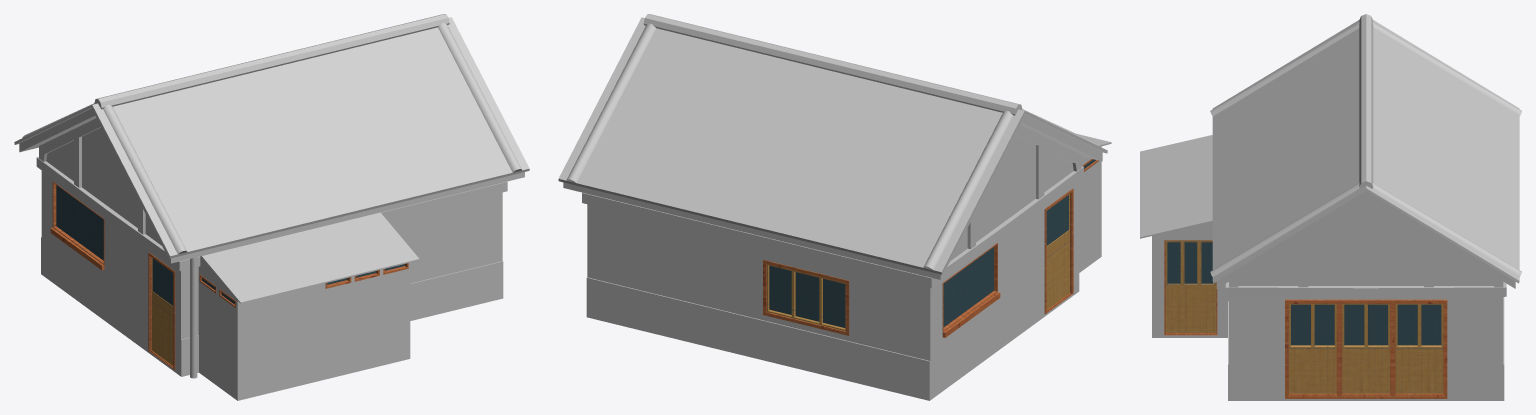
File: House2-2.fbx
3 renders of one model, left to right at view 1: azimuth 30°, elevation 25°; view 2: azimuth 150°, elevation 25°; view 3: azimuth 270°, elevation 25°, orthographic. The views are drawn at different scales.
Visible parts, largest first — view 1: House2-2; view 2: House2-2; view 3: House2-2.
Part boxes in pixels (<box>): House2-2: <box>14,14,529,400</box>; House2-2: <box>558,14,1111,400</box>; House2-2: <box>1140,14,1521,400</box>.
Size of the model in its own units: 447 by 273 by 418.
